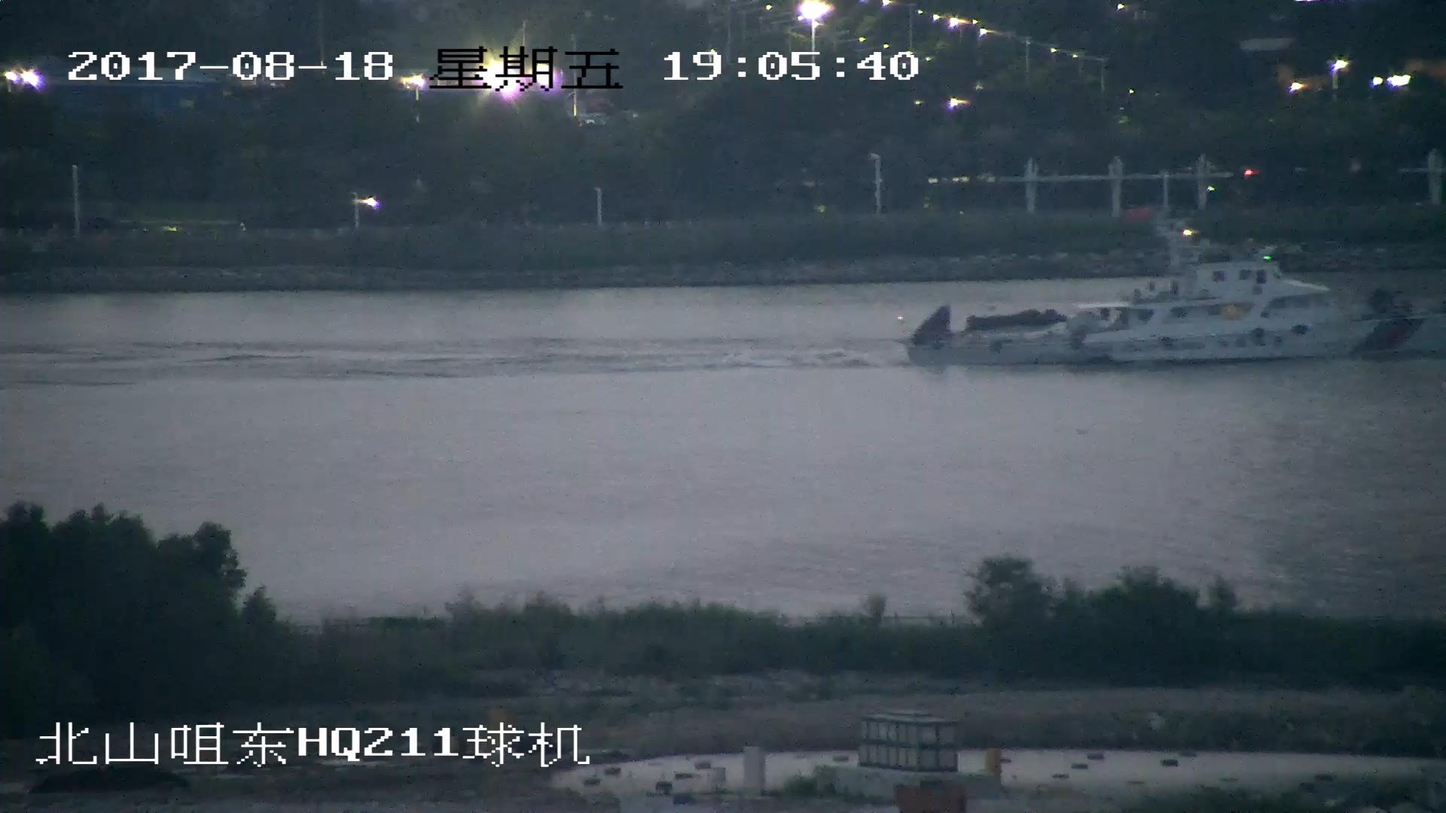passenger ship: (906, 222, 1438, 365)
